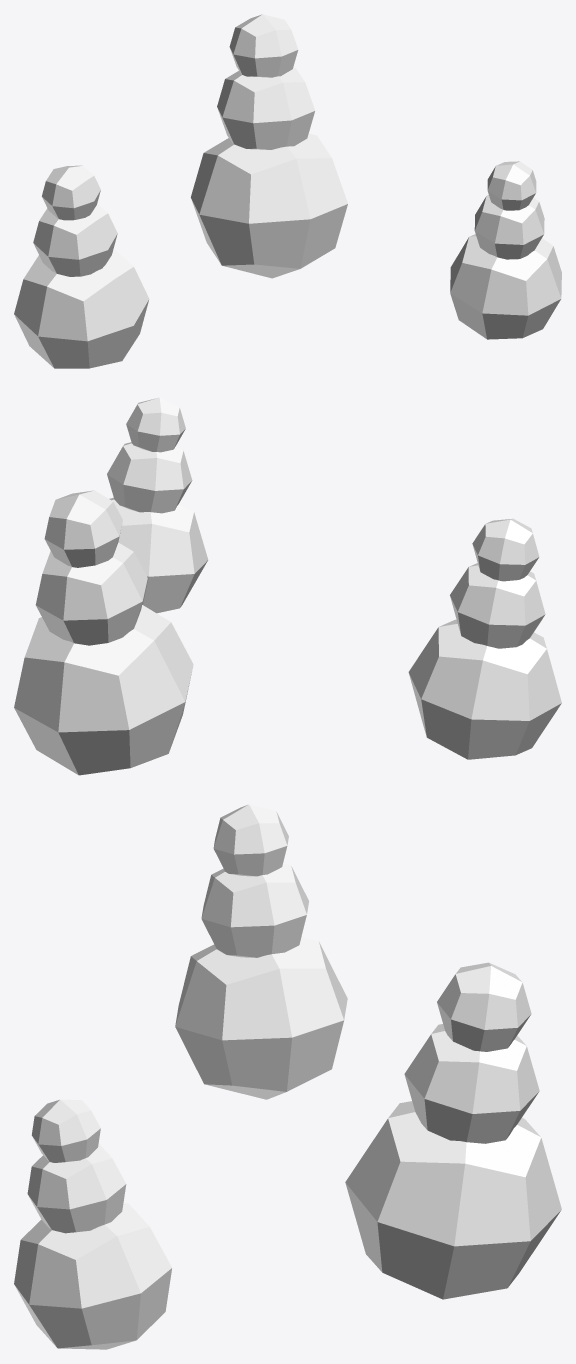
File: Snowmen.fbx
3 renders of one model, top to bottom at view 1: azimuth 30°, elevation 25°; view 2: azimuth 150°, elevation 25°; view 3: azimuth 270°, elevation 25°, orthographic. The views are drawn at different scales.
Parts seen in each view (by area): view 1: Snowmen; view 2: Snowmen; view 3: Snowmen.
Part boxes in pixels (x1,y1,x2,y2): Snowmen: (14,14,561,368); Snowmen: (14,397,561,775); Snowmen: (14,804,561,1349).
Size of the model in its own units: 0.731 by 0.3687 by 0.5502.
